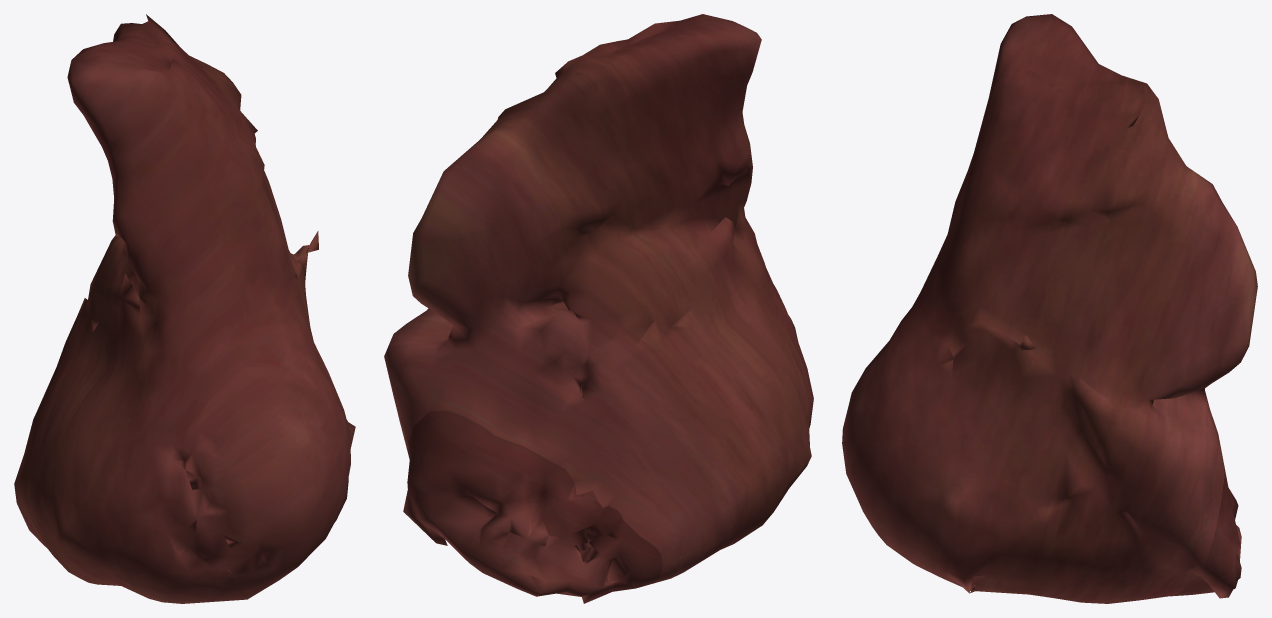
Rendered from Eve_Liver.obj.
3 renders of one model, left to right at view 1: azimuth 30°, elevation 25°; view 2: azimuth 150°, elevation 25°; view 3: azimuth 270°, elevation 25°, orthographic. The views are drawn at different scales.
Visible parts, largest first — view 1: Eve_Liver.001; view 2: Eve_Liver.001; view 3: Eve_Liver.001.
Part boxes in pixels (left/top/right/bottom): Eve_Liver.001: left=14, top=14, right=355, bottom=603; Eve_Liver.001: left=384, top=14, right=813, bottom=603; Eve_Liver.001: left=842, top=14, right=1257, bottom=603.
Bounding box in the file's own units: 155 × 250 × 177.
Materials: 1 (1 with a texture image).
